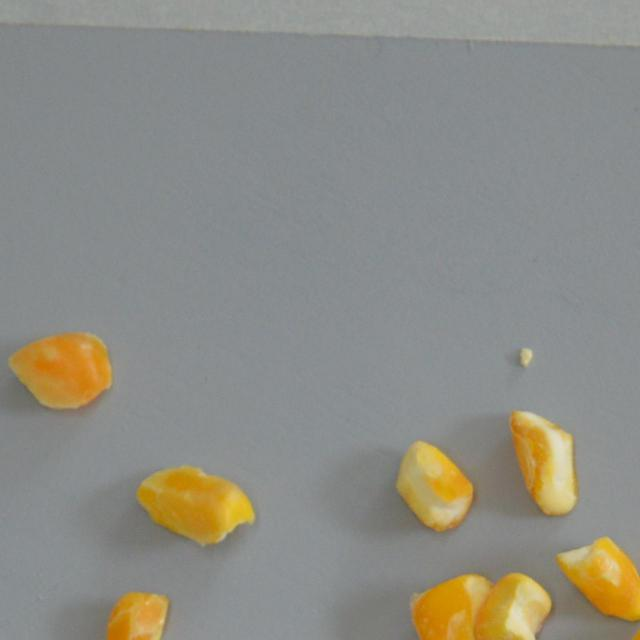dañado: (134, 460, 260, 550), (6, 329, 116, 414), (505, 406, 583, 519), (393, 434, 476, 536), (552, 531, 640, 624), (405, 570, 492, 640), (472, 568, 552, 640), (101, 582, 176, 640)
